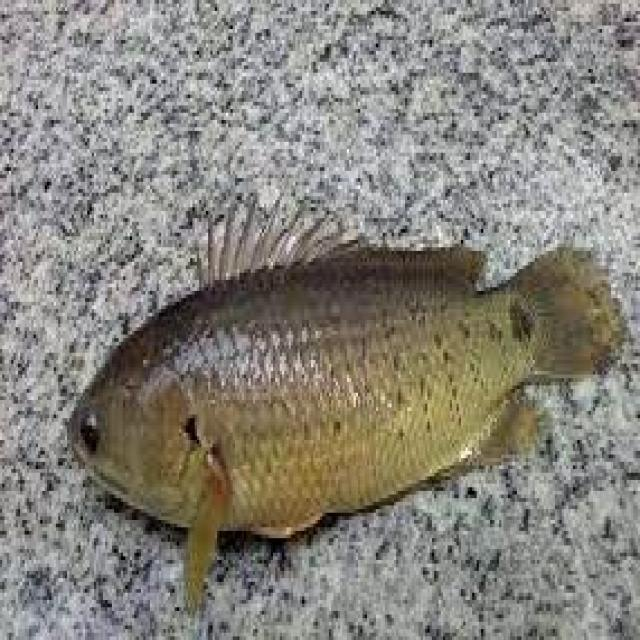Climbing-Perch: (32, 175, 640, 616)
